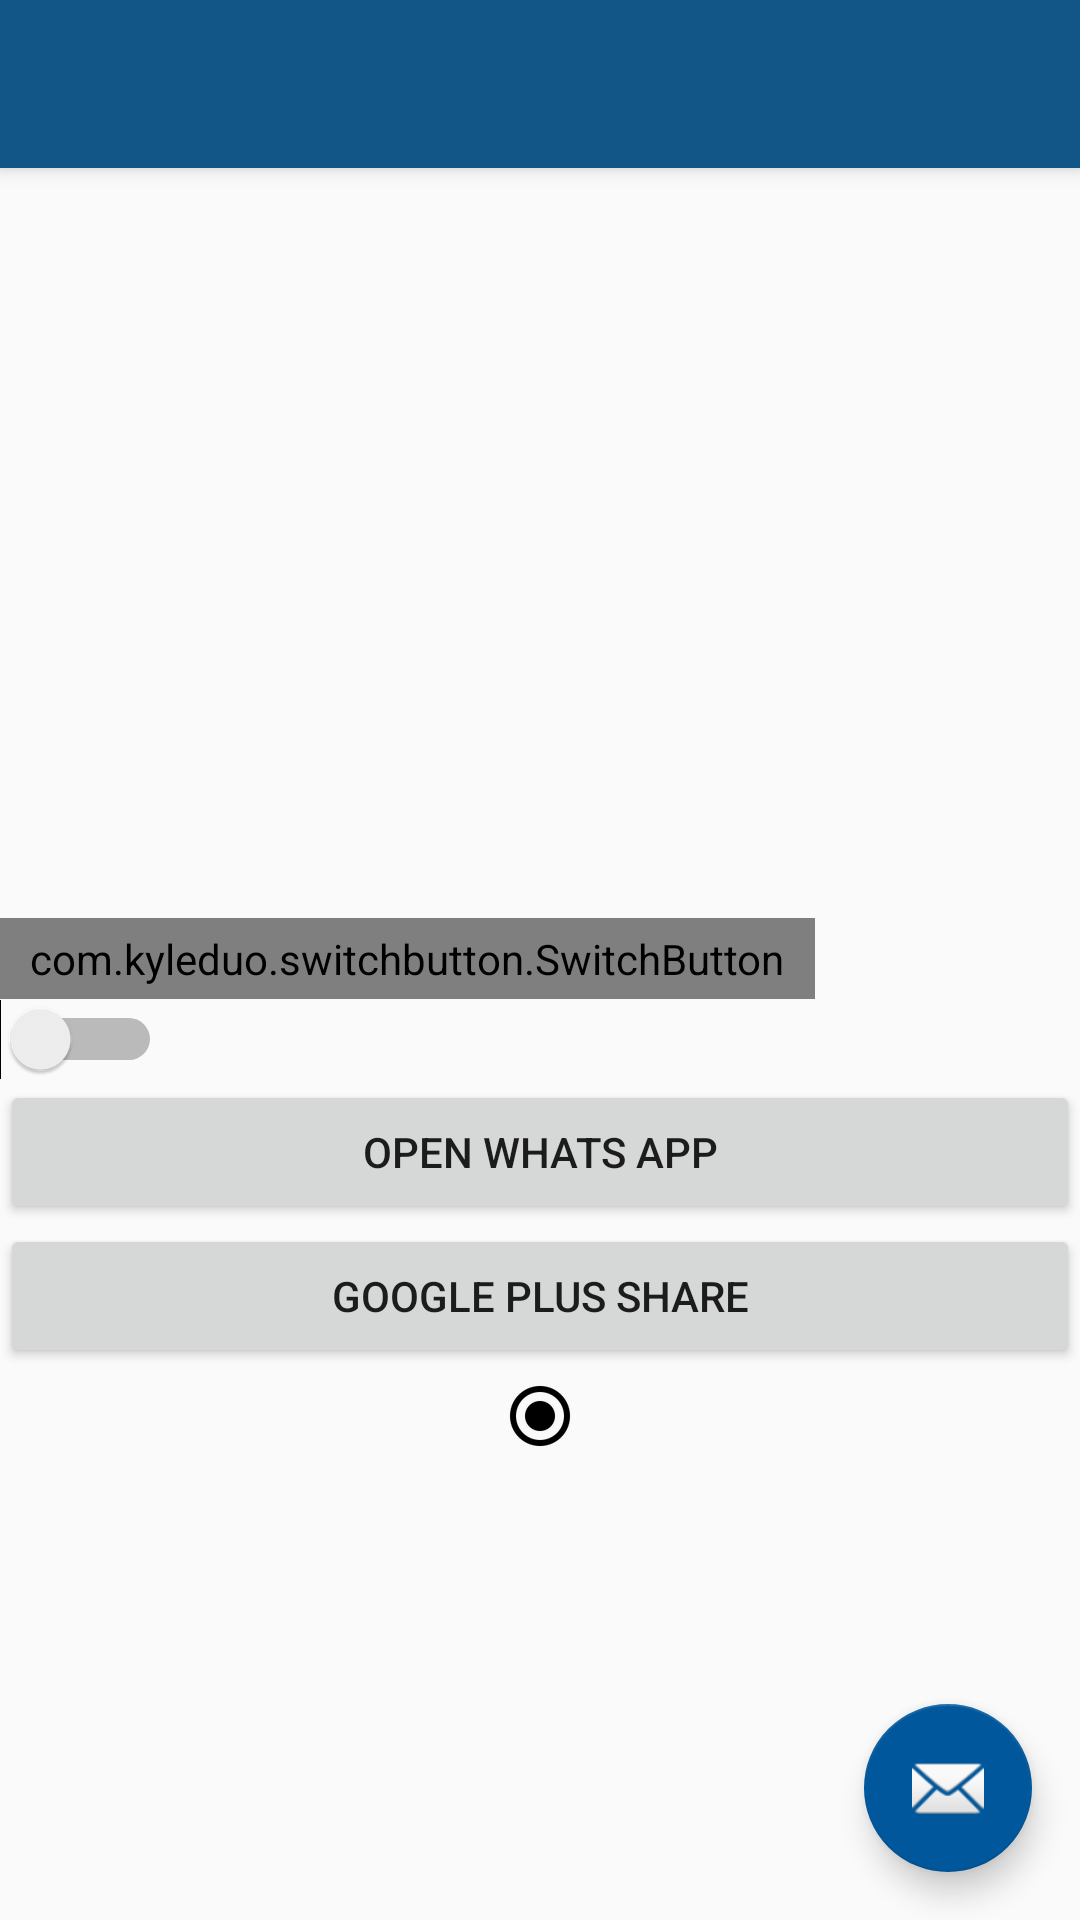

Screen size 1080px x 1920px. Icon name, then its center in pixels as [x,y]:
email: [948,1788]
radio to on: [540,1416]
